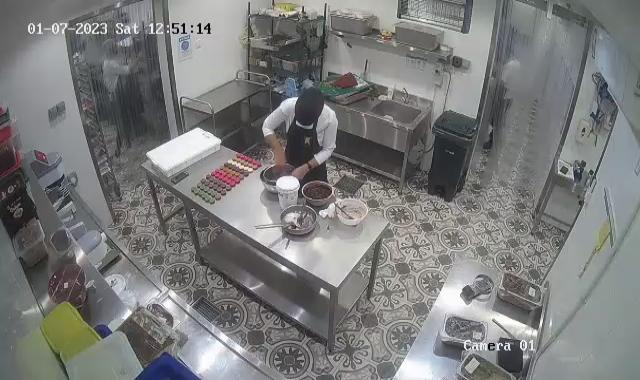no_hairnet: (292, 87, 325, 127)
